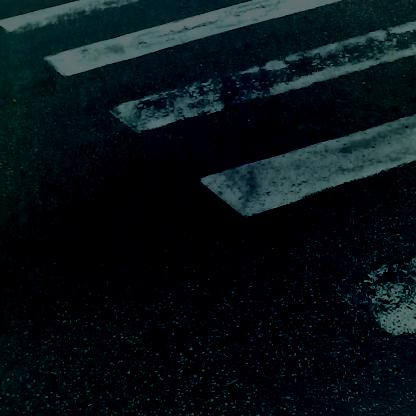crosswalk: (6, 7, 411, 328)
